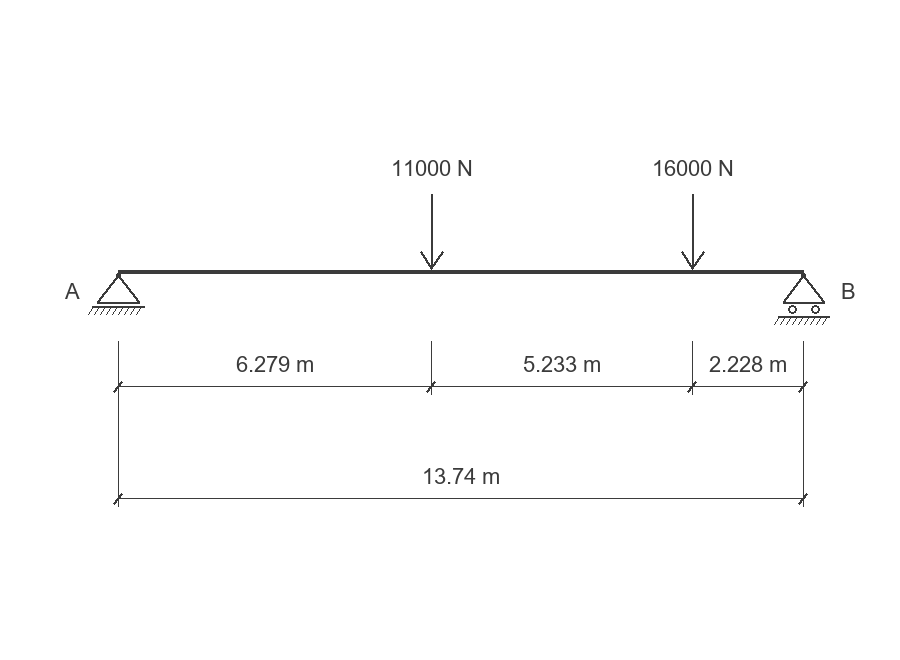pin_support: (88, 273, 145, 315)
point_load: (420, 194, 444, 270), (681, 194, 705, 270)
roller_support: (774, 273, 830, 325)
